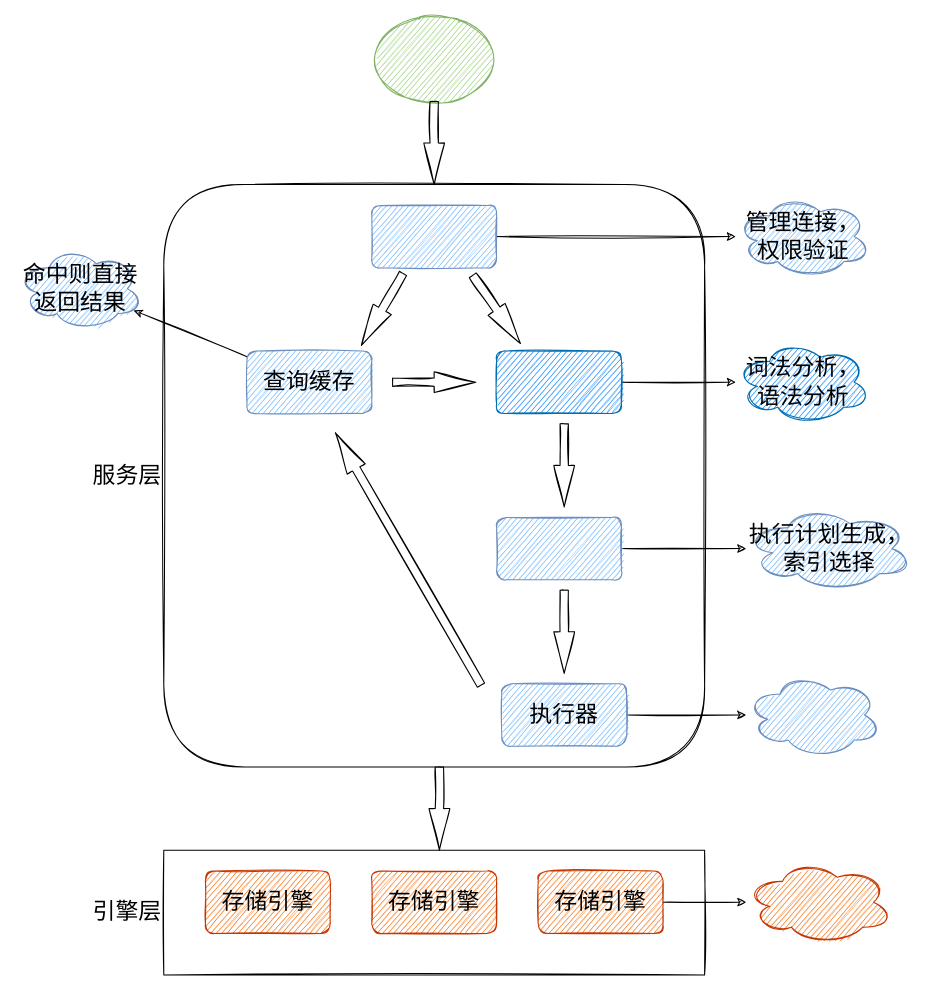
The diagram is 931 pixels wide and 993 high, and some of its shapes have lost their labels. Here are the shapes that lost their labels. From the top down, the centre of each, then its label:
At point (434, 59): "客户端".
At point (434, 236): "连接器".
At point (558, 381): "分析器".
At point (558, 548): "优化器".
At point (813, 714): "操作引擎，返回结果".
At point (818, 902): "存储数据，提供读写接口".
